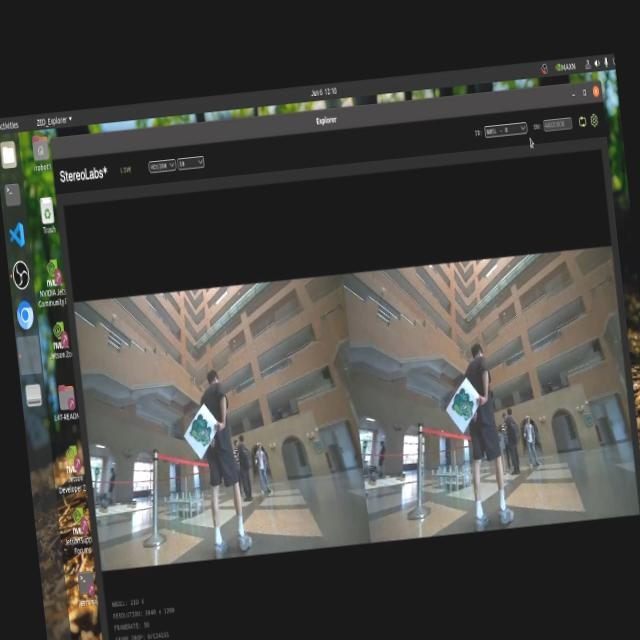green: (186, 417, 214, 448), (448, 390, 474, 420)
